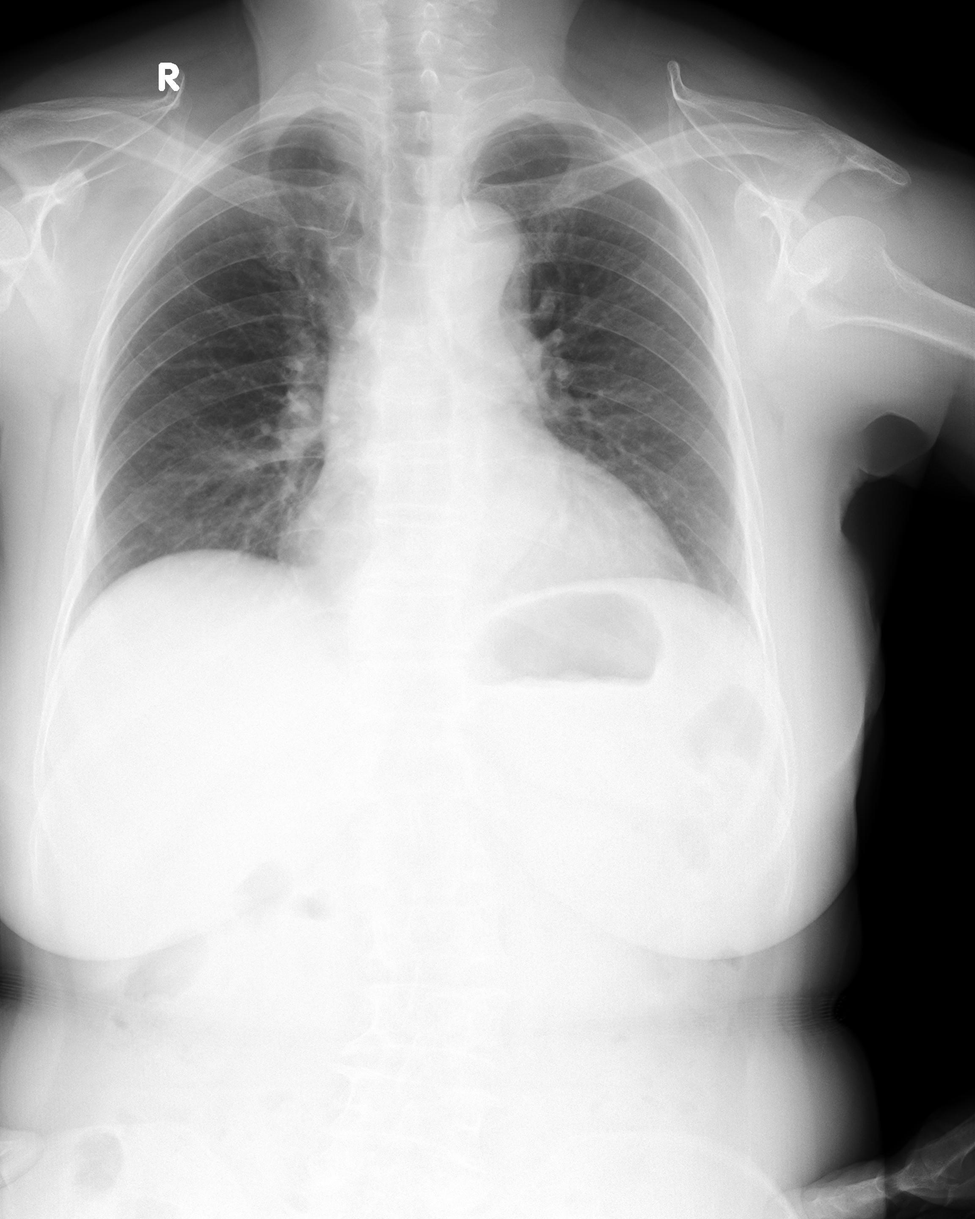Aortic enlargement: (427, 197, 523, 305)
Cardiomegaly: (272, 469, 688, 579)
